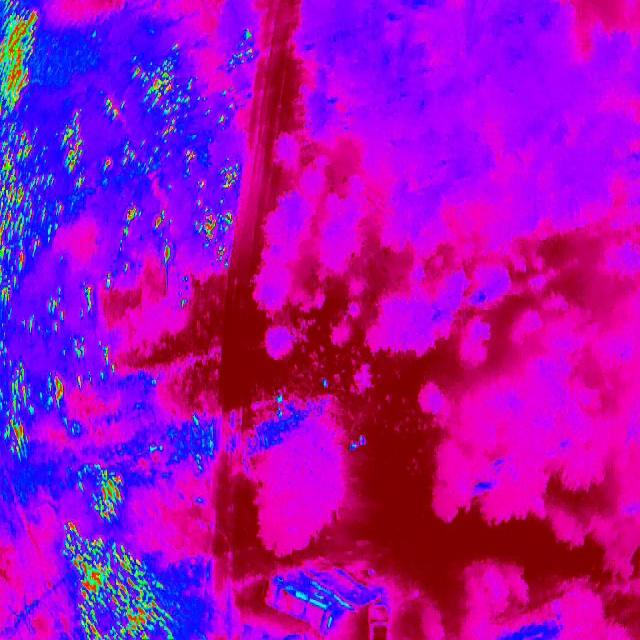fire: (122, 52, 240, 260), (0, 116, 64, 308), (75, 566, 178, 640), (0, 360, 68, 456), (0, 0, 44, 116), (70, 461, 130, 522), (64, 103, 90, 218), (56, 536, 144, 569), (70, 278, 100, 367), (63, 520, 83, 538)
